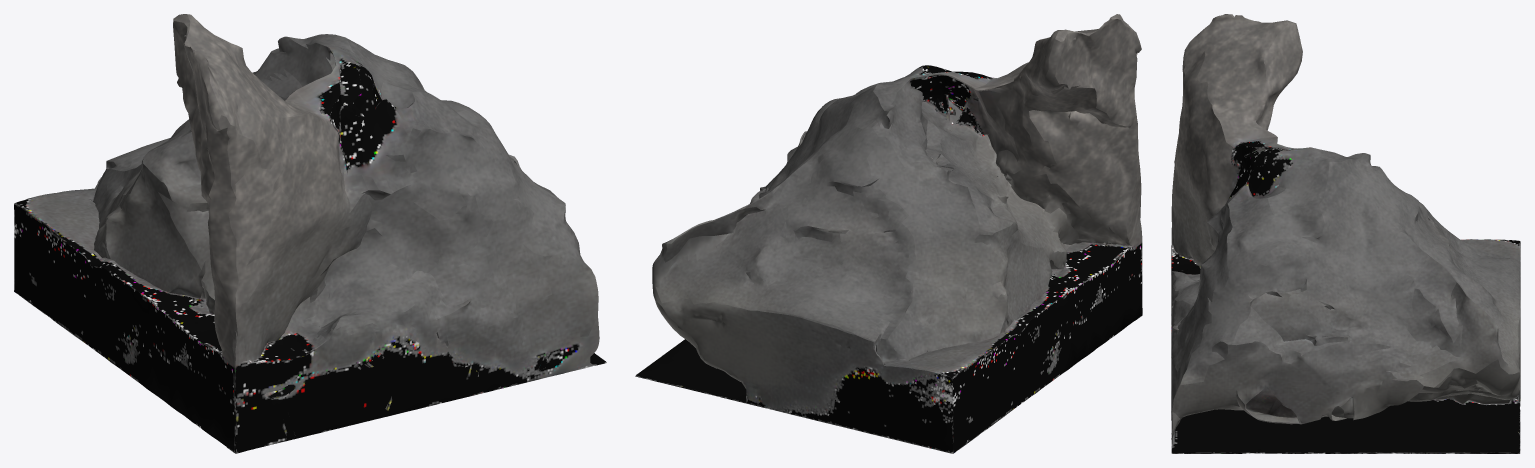
3 renders of one model, left to right at view 1: azimuth 30°, elevation 25°; view 2: azimuth 150°, elevation 25°; view 3: azimuth 270°, elevation 25°, orthographic. The views are drawn at different scales.
Parts seen in each view (by area): view 1: world; view 2: world; view 3: world.
Boxes of the visible parts, x1=… form: world: x1=14, y1=14, x2=606, y2=453; world: x1=635, y1=14, x2=1142, y2=453; world: x1=1171, y1=14, x2=1520, y2=453.
Size of the model in its own units: 0.35 by 0.3329 by 0.3512.
Materials: 1 (1 with a texture image).
